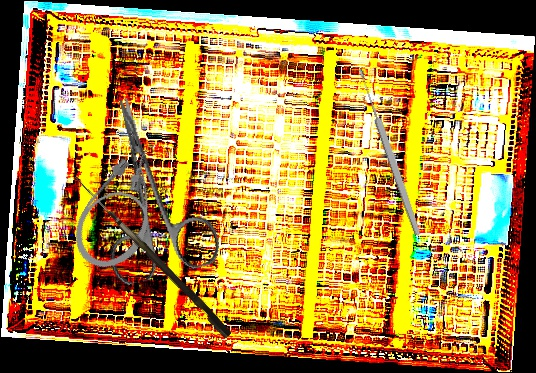Cannula: (61, 137, 185, 281)
Hook Surgical: (67, 176, 235, 339)
Iris Scissors: (73, 84, 225, 288)
Surgical Spoon: (355, 66, 424, 238)
